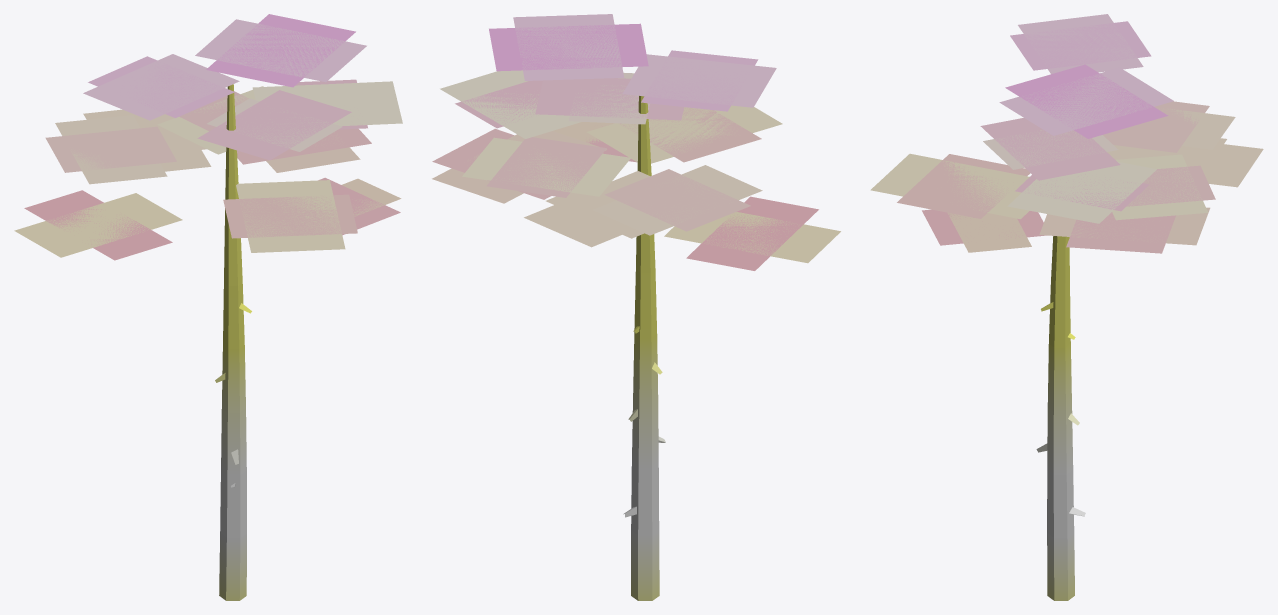
File: tree_pine_0.glb
3 views of the same model, side by side, from view 1: azimuth 30°, elevation 25°; view 2: azimuth 150°, elevation 25°; view 3: azimuth 270°, elevation 25° (orthographic). The views are drawn at different scales.
Visible parts, largest first — view 1: tree_pine_0; view 2: tree_pine_0; view 3: tree_pine_0.
Boxes of the visible parts, x1=… form: tree_pine_0: x1=14, y1=14, x2=402, y2=600; tree_pine_0: x1=432, y1=14, x2=840, y2=600; tree_pine_0: x1=870, y1=14, x2=1263, y2=600.
Size of the model in its own units: 7.95 by 10.8 by 7.35.
